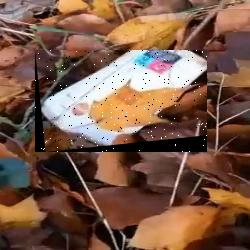restaffald: (35, 50, 207, 152)
